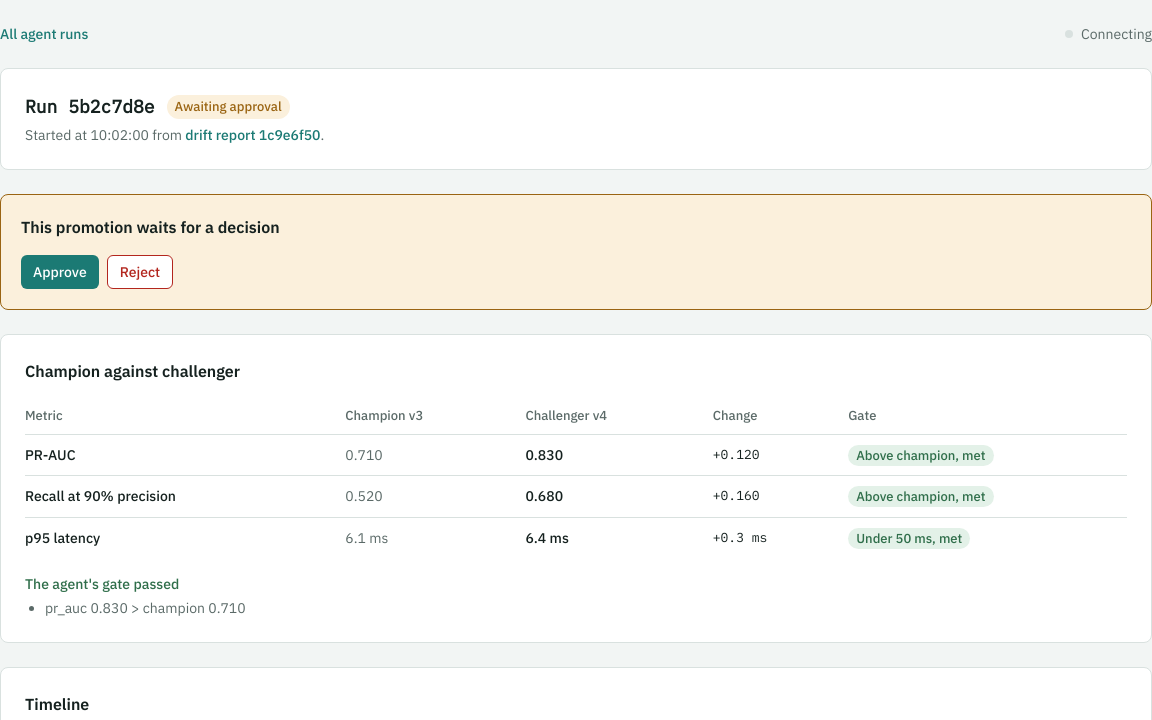
Test case: agent run approval › closes the dialog on cancel and keeps it open when the broker is down
Click the button "Reject" at (140, 272), box [107,255,173,289]
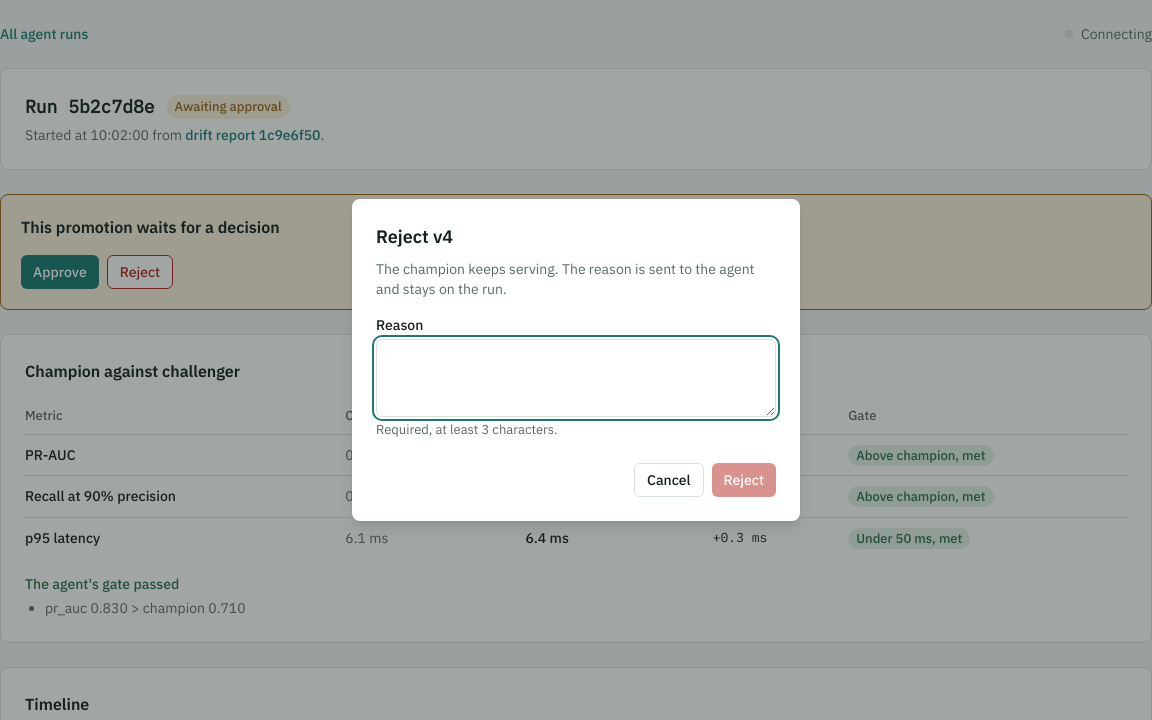
Press Escape
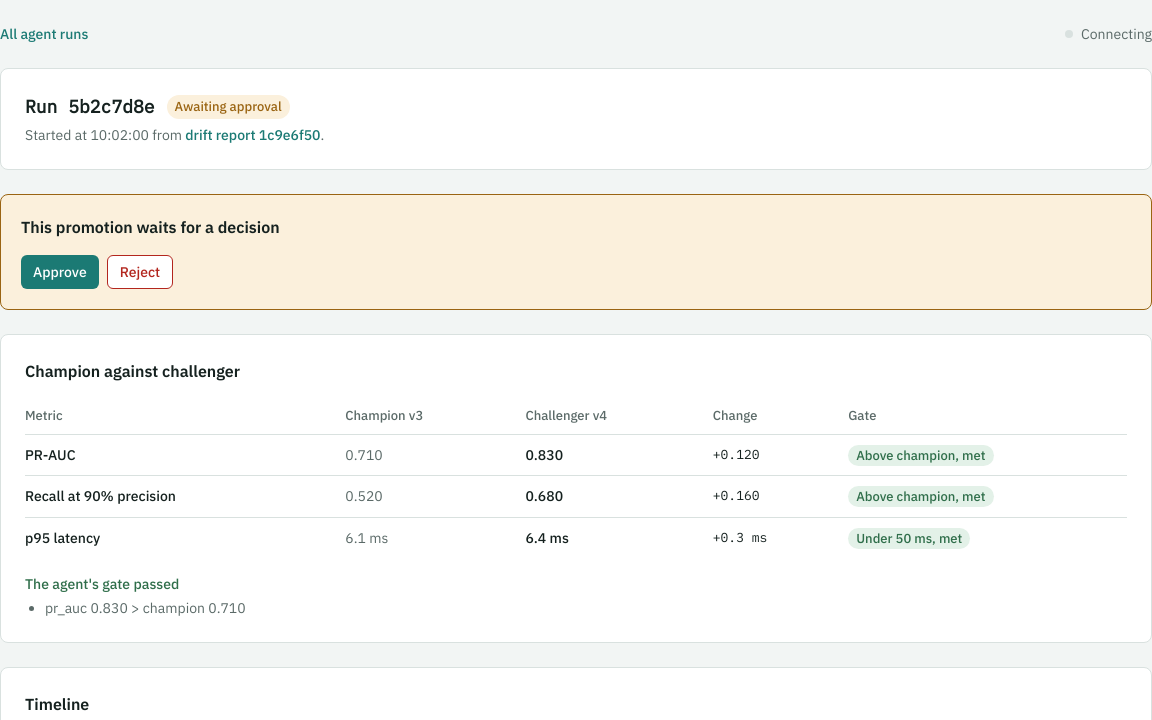
Now the dialog is gone
Click the button "Approve" at (60, 272), box [21,255,99,289]
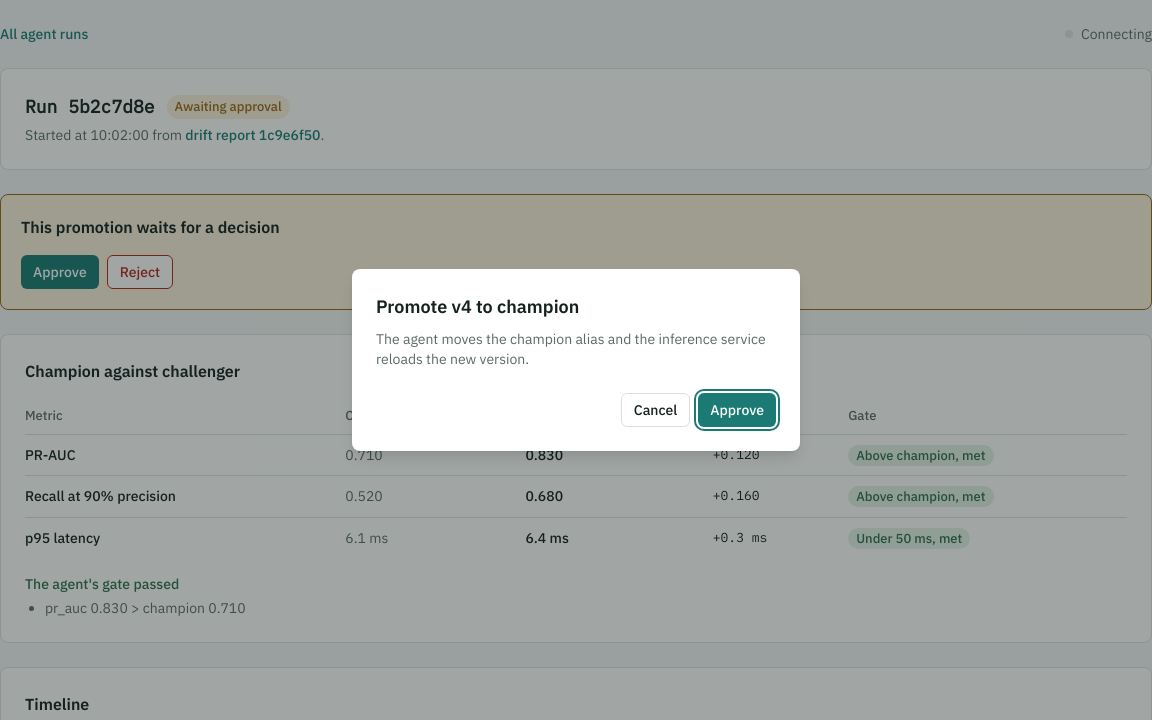
Click the button "Approve" at (737, 410), box [698,393,776,427]
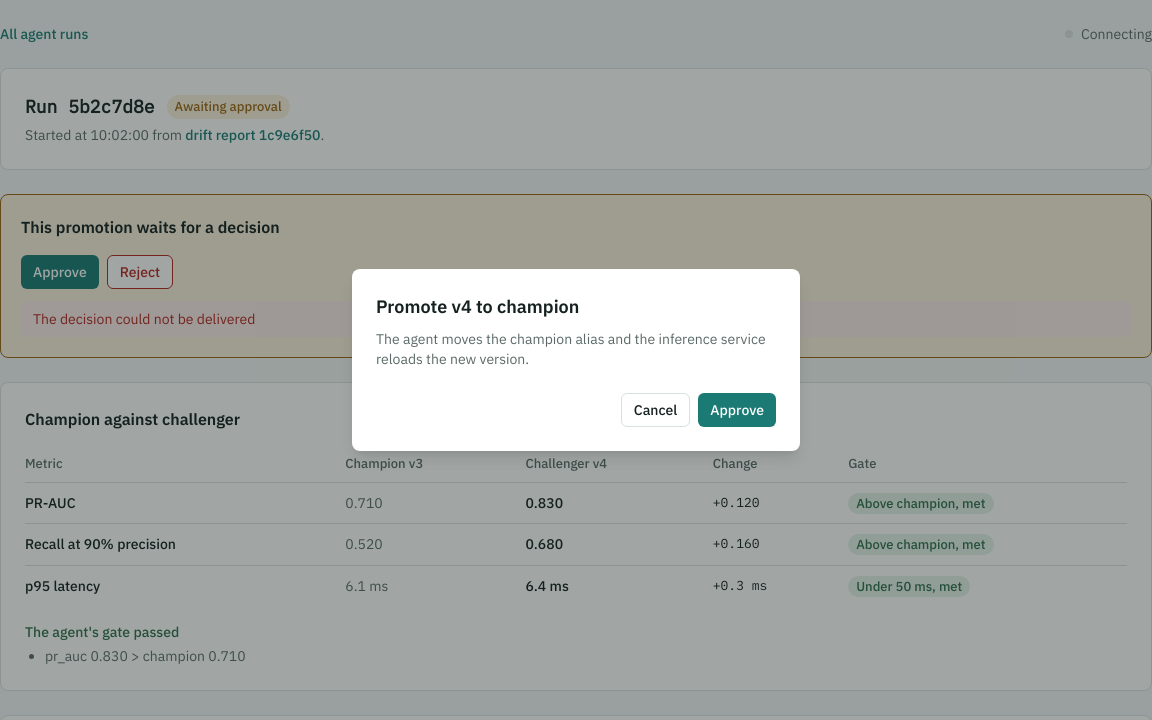
Now the dialog is shown, box [352,269,800,451]
Now the message shows "could not be delivered", box [33,310,255,328]
